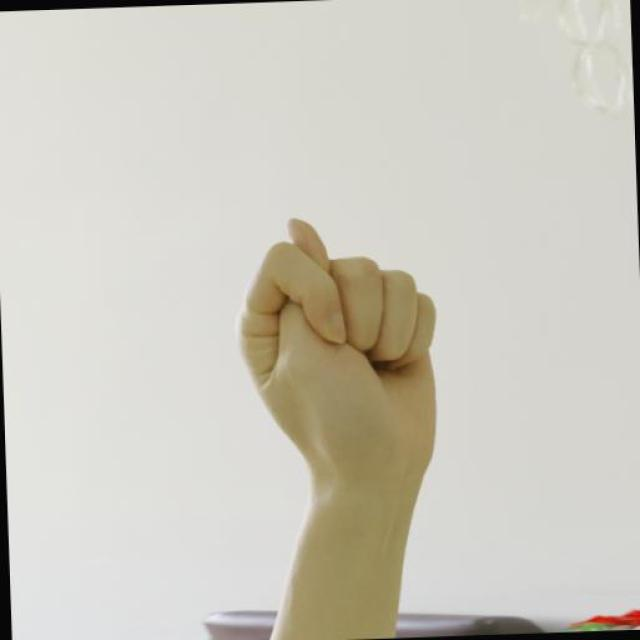T: (227, 208, 445, 492)
